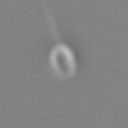normal: (33, 1, 69, 41)
